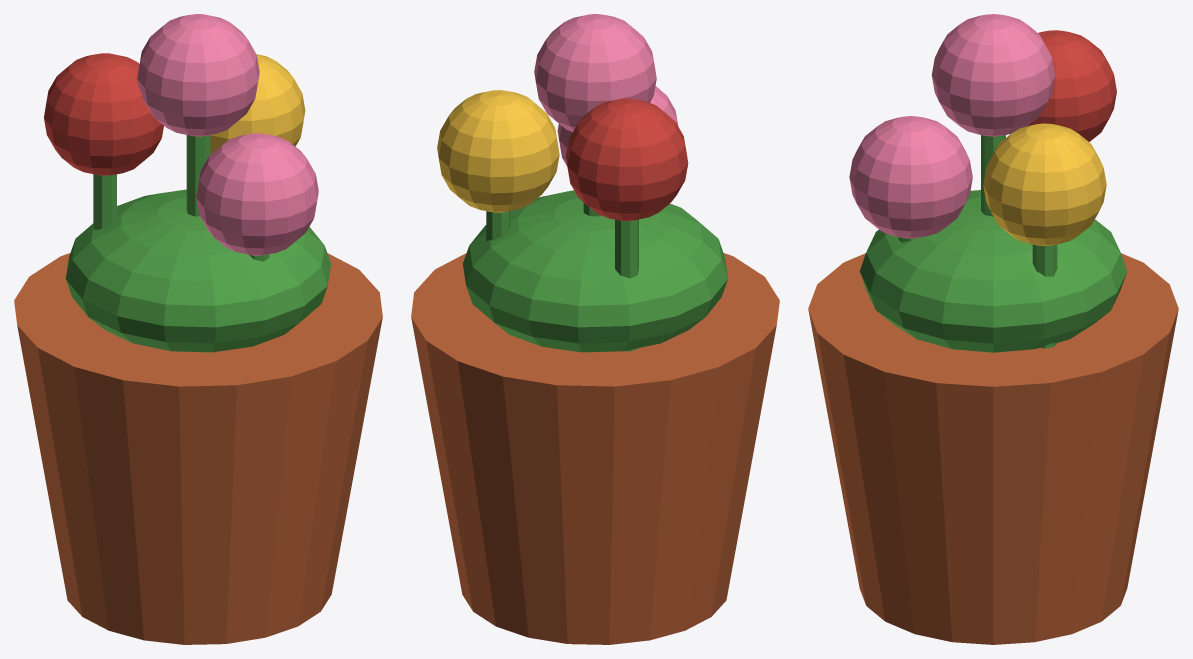
File: flower_pot.glb
3 views of the same model, side by side, from view 1: azimuth 30°, elevation 25°; view 2: azimuth 150°, elevation 25°; view 3: azimuth 270°, elevation 25° (orthographic).
Parts seen in each view (by area): view 1: Pot, Leaves, Flower_3, Flower_0, Flower_2, Flower_1, Stem_0, Stem_2; view 2: Pot, Leaves, Flower_1, Flower_2, Flower_0, Stem_2, Flower_3, Stem_1; view 3: Pot, Leaves, Flower_1, Flower_3, Flower_0, Flower_2, Stem_1, Stem_0.
Boxes of the visible parts, x1,y1,x2,y2 form: Pot: [14, 253, 382, 644]; Leaves: [65, 189, 331, 352]; Flower_3: [196, 133, 318, 255]; Flower_0: [137, 14, 259, 136]; Flower_2: [44, 53, 163, 175]; Flower_1: [210, 54, 305, 154]; Stem_0: [186, 135, 210, 216]; Stem_2: [93, 174, 116, 229]; Pot: [411, 253, 779, 644]; Leaves: [462, 190, 728, 352]; Flower_1: [437, 90, 559, 212]; Flower_2: [565, 98, 688, 220]; Flower_0: [534, 14, 656, 131]; Stem_2: [615, 219, 638, 351]; Flower_3: [557, 86, 678, 166]; Stem_1: [486, 211, 510, 240]; Pot: [808, 253, 1178, 644]; Leaves: [859, 190, 1127, 352]; Flower_1: [983, 123, 1106, 245]; Flower_3: [849, 116, 972, 238]; Flower_0: [931, 14, 1055, 136]; Flower_2: [1027, 30, 1116, 141]; Stem_1: [1032, 244, 1057, 348]; Stem_0: [981, 135, 1005, 216].
Bounding box in the file's own units: 0.36 × 0.61 × 0.36.
